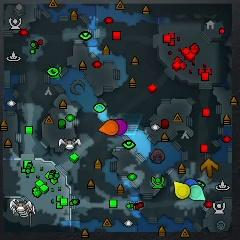p1: (184, 178, 197, 186)
p2: (189, 184, 206, 201)
p3: (114, 119, 129, 136)
p4: (173, 180, 191, 199)
p5: (99, 120, 119, 135)
